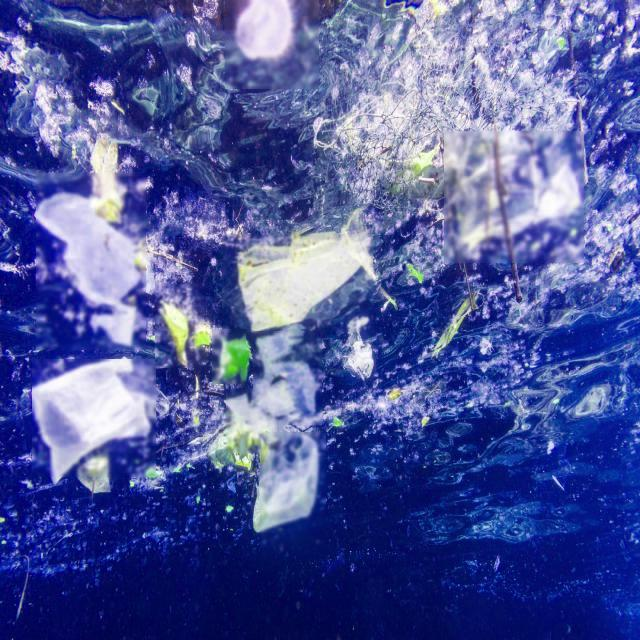Plastic: (226, 0, 301, 64)
Trash: (445, 108, 584, 255), (27, 340, 158, 488), (239, 225, 367, 332), (37, 190, 150, 302), (250, 423, 320, 536), (85, 135, 123, 222), (158, 295, 194, 363), (207, 340, 253, 378), (340, 340, 378, 385), (195, 311, 217, 354)
